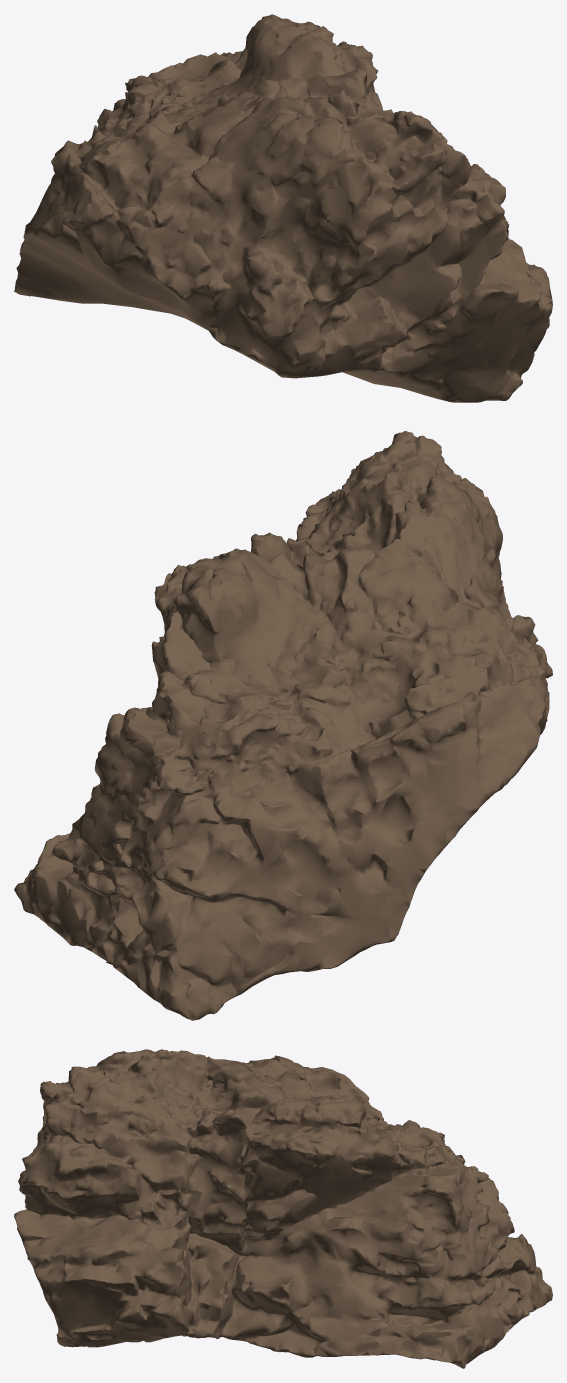
Rendered from boulder_01-lod2.glb.
The picture shows the model from 3 angles, top to bottom: view 1: azimuth 30°, elevation 25°; view 2: azimuth 150°, elevation 25°; view 3: azimuth 270°, elevation 25°; orthographic projection. The views are drawn at different scales.
Parts seen in each view (by area): view 1: boulder_01; view 2: boulder_01; view 3: boulder_01.
Part boxes in pixels (x1,y1,x2,y2): boulder_01: (14, 14, 552, 402); boulder_01: (14, 431, 552, 1020); boulder_01: (14, 1049, 552, 1368).
Size of the model in its own units: 1.27 by 1 by 1.83.
